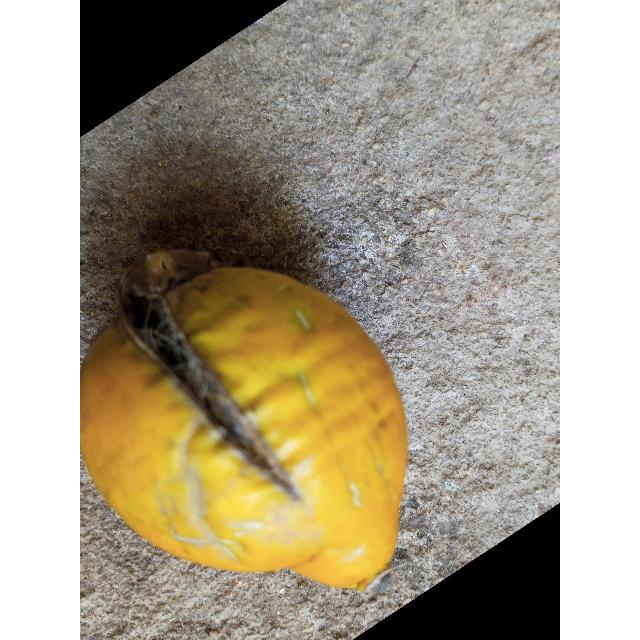damaged: (81, 268, 407, 591)
